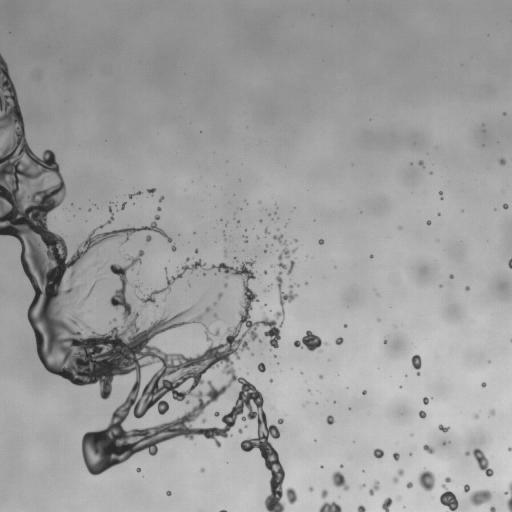droplet: (293, 330, 323, 351), (469, 489, 492, 506), (418, 469, 435, 491), (332, 471, 349, 490), (285, 487, 297, 504), (369, 480, 379, 495), (382, 497, 392, 511), (373, 448, 383, 458), (423, 444, 434, 453), (438, 424, 449, 432), (257, 363, 265, 372), (326, 415, 334, 424), (335, 337, 343, 345), (419, 410, 426, 418), (321, 489, 327, 498), (422, 397, 429, 404), (147, 188, 155, 194), (393, 452, 399, 460), (357, 505, 365, 511), (499, 158, 505, 165), (464, 484, 469, 492), (418, 160, 424, 166), (489, 409, 495, 415), (277, 418, 283, 424), (406, 482, 412, 488), (171, 244, 176, 251), (503, 203, 508, 209), (146, 235, 151, 241), (445, 477, 451, 482), (264, 228, 268, 235), (318, 239, 323, 244), (481, 382, 486, 387), (214, 411, 219, 416), (490, 506, 495, 511), (110, 318, 116, 322), (141, 319, 145, 325), (159, 196, 163, 201), (223, 282, 227, 287), (238, 428, 242, 433), (166, 491, 171, 495), (157, 207, 161, 211), (427, 220, 431, 224), (449, 274, 453, 278), (134, 285, 138, 289), (465, 286, 469, 290), (362, 390, 366, 394), (136, 468, 140, 472), (200, 468, 204, 472), (309, 487, 313, 491), (319, 374, 322, 378), (474, 415, 478, 418), (508, 447, 511, 451), (195, 249, 198, 252), (370, 255, 373, 258), (186, 258, 189, 261), (202, 419, 205, 422), (361, 484, 364, 487), (397, 496, 400, 499), (224, 251, 226, 255), (503, 112, 505, 115), (399, 226, 401, 229), (294, 239, 297, 241), (234, 258, 236, 261), (264, 271, 267, 273), (264, 289, 267, 291), (270, 379, 272, 382), (430, 172, 432, 174), (187, 281, 189, 283), (198, 300, 200, 302), (384, 340, 386, 342), (340, 465, 342, 467)
ligament: (0, 54, 292, 511), (273, 234, 296, 274), (465, 448, 493, 476), (440, 484, 458, 511), (98, 207, 113, 228), (78, 286, 93, 307), (318, 501, 341, 511), (411, 354, 421, 375), (505, 481, 511, 511), (392, 469, 404, 483), (129, 191, 141, 198), (508, 258, 511, 268), (121, 202, 125, 209), (243, 235, 247, 242), (439, 191, 442, 198), (164, 268, 167, 272), (220, 510, 226, 511)
